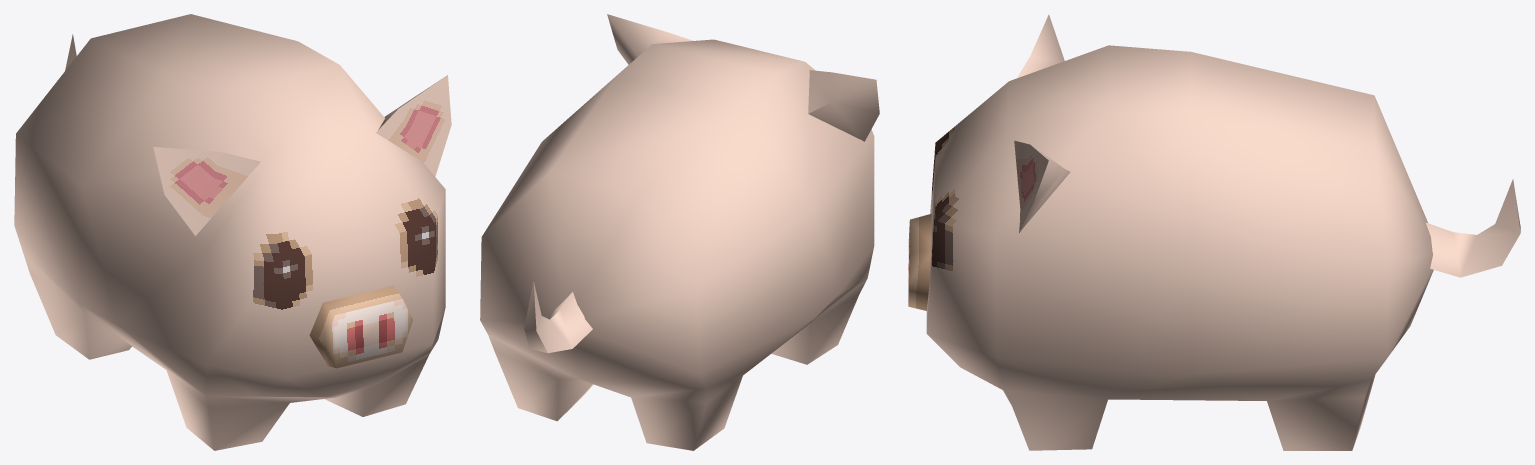
Rendered from pig.obj.
3 views of the same model, side by side, from view 1: azimuth 30°, elevation 25°; view 2: azimuth 150°, elevation 25°; view 3: azimuth 270°, elevation 25° (orthographic). The views are drawn at different scales.
Parts seen in each view (by area): view 1: polygon0, polygon1; view 2: polygon1, polygon0; view 3: polygon1, polygon0.
Part boxes in pixels (x1,y1,x2,y2): polygon0: (79, 41, 445, 408); polygon1: (14, 14, 451, 450); polygon1: (480, 14, 879, 450); polygon0: (550, 39, 874, 322); polygon1: (1003, 14, 1520, 450); polygon0: (908, 45, 1191, 404).
Bounding box in the file's own units: 2.17 × 2.17 × 3.73.
